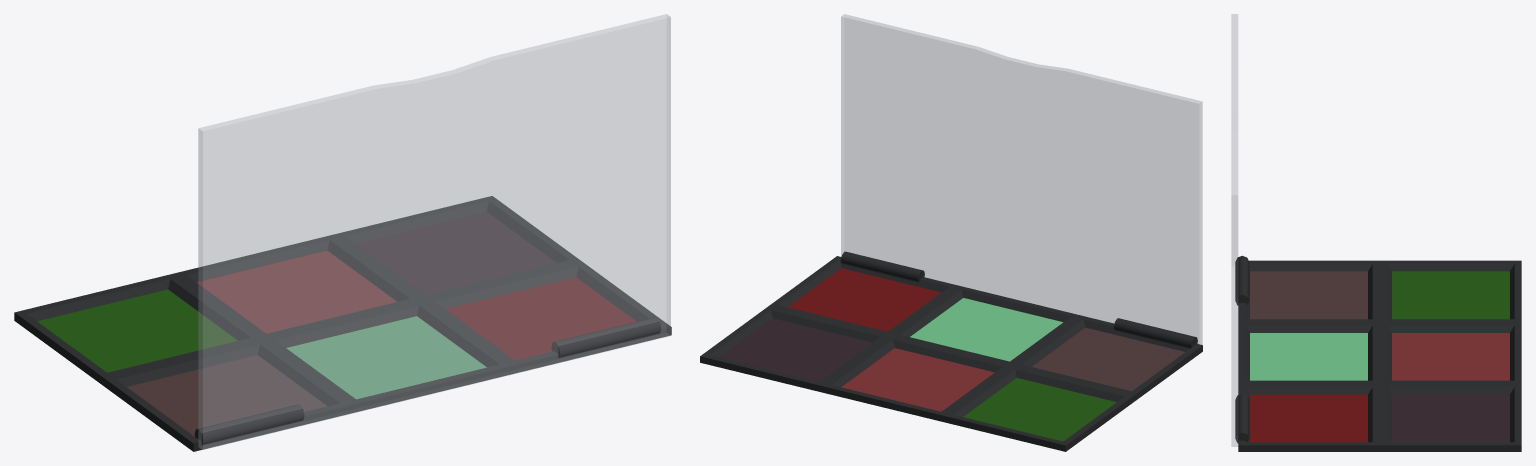
The model's file is make_up_pallete_open.fbx.
The picture shows the model from 3 angles, left to right: view 1: azimuth 30°, elevation 25°; view 2: azimuth 150°, elevation 25°; view 3: azimuth 270°, elevation 25°; orthographic projection. The views are drawn at different scales.
Parts seen in each view (by area): view 1: make up_pallete_open.004; view 2: make up_pallete_open.004; view 3: make up_pallete_open.004.
Part boxes in pixels (x1,y1,x2,y2): make up_pallete_open.004: (14, 14, 671, 451); make up_pallete_open.004: (700, 14, 1202, 451); make up_pallete_open.004: (1231, 14, 1521, 451).
Size of the model in its own units: 2441 by 1574 by 1624.
2 materials, 2 textured.
